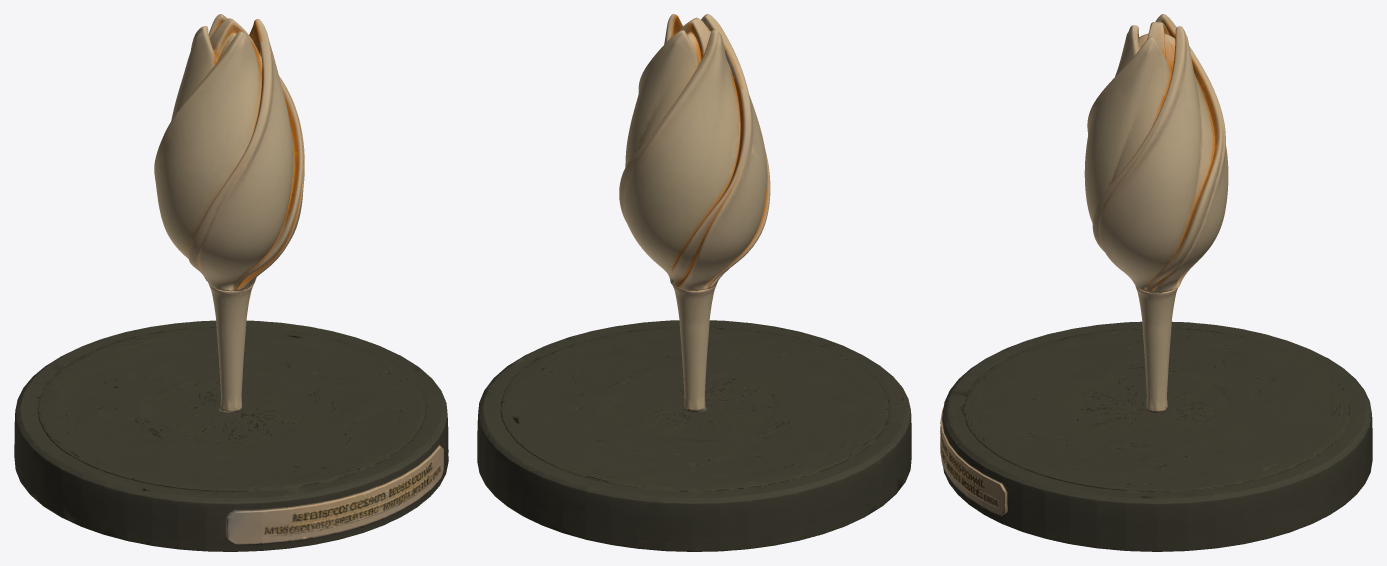
File: mini-final.glb
The picture shows the model from 3 angles, left to right: view 1: azimuth 30°, elevation 25°; view 2: azimuth 150°, elevation 25°; view 3: azimuth 270°, elevation 25°; orthographic projection.
Parts seen in each view (by area): view 1: material; view 2: material; view 3: material.
Boxes of the visible parts, left/top/right/bottom form: material: left=14, top=14, right=448, bottom=551; material: left=477, top=14, right=911, bottom=551; material: left=940, top=14, right=1372, bottom=551.
Size of the model in its own units: 0.8016 by 0.9 by 0.8027.
1 material, 1 textured.
